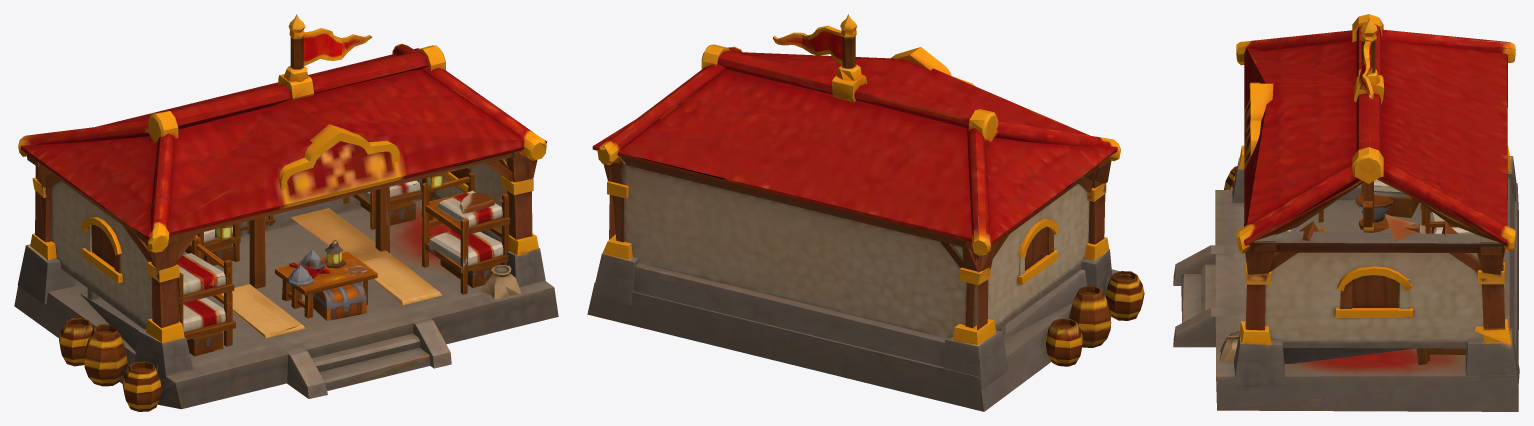
Rendered from soldier_quarters.glb.
The picture shows the model from 3 angles, left to right: view 1: azimuth 30°, elevation 25°; view 2: azimuth 150°, elevation 25°; view 3: azimuth 270°, elevation 25°; orthographic projection. The views are drawn at different scales.
Visible parts, largest first — view 1: mesh_000; view 2: mesh_000; view 3: mesh_000.
Boxes of the visible parts, box(x1,y1,x2,y2) form: mesh_000: box(14, 14, 558, 411); mesh_000: box(587, 14, 1144, 411); mesh_000: box(1173, 14, 1519, 411).
Bounding box in the file's own units: 0.9531 × 0.6315 × 0.6563.
Materials: 1 (1 with a texture image).
